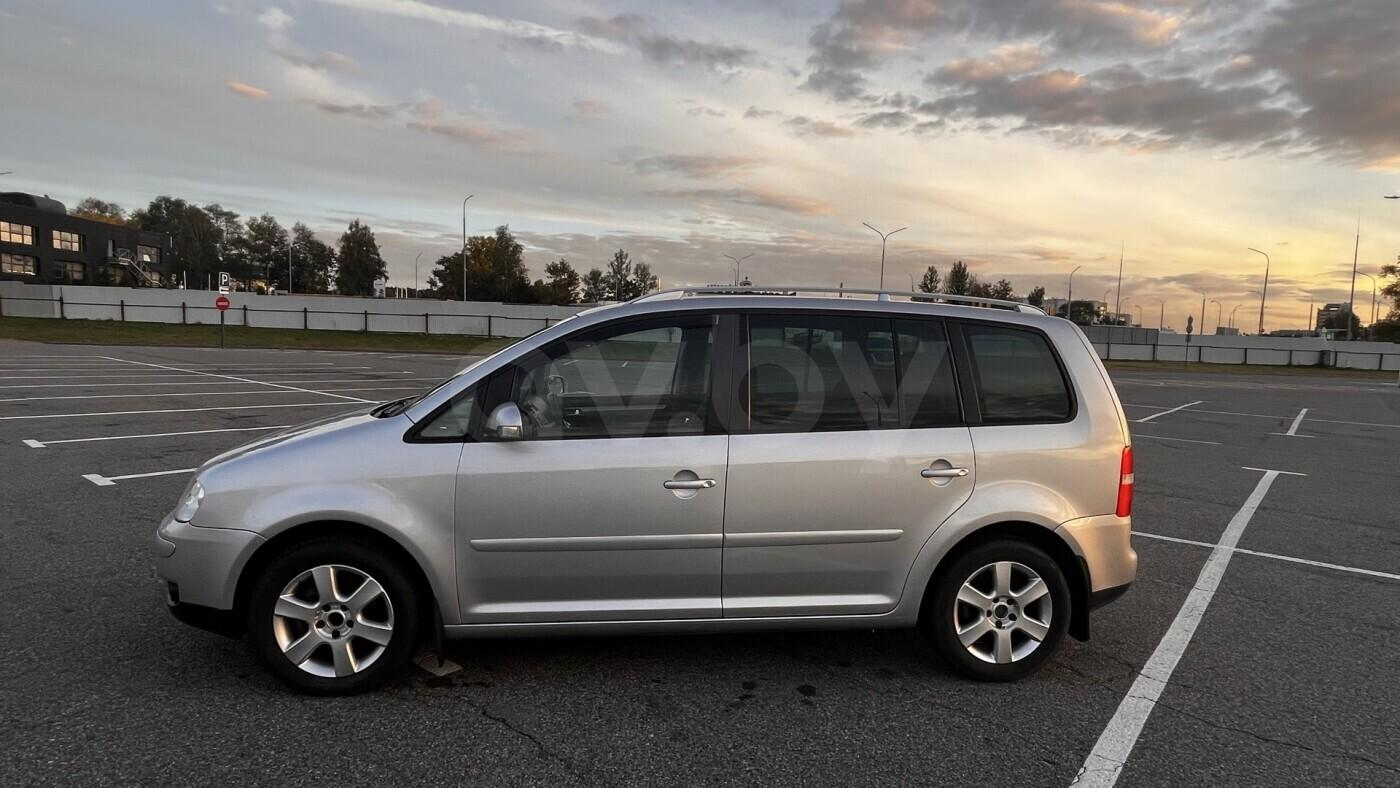Touran_2003-2006: (155, 285, 1136, 705)
